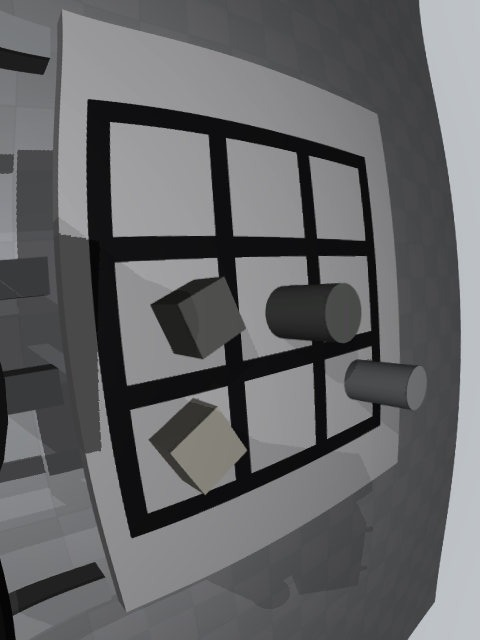can: (344, 359, 427, 410)
cube: (150, 277, 246, 359)
cylinder: (265, 283, 361, 343)
foam: (149, 398, 248, 495)
